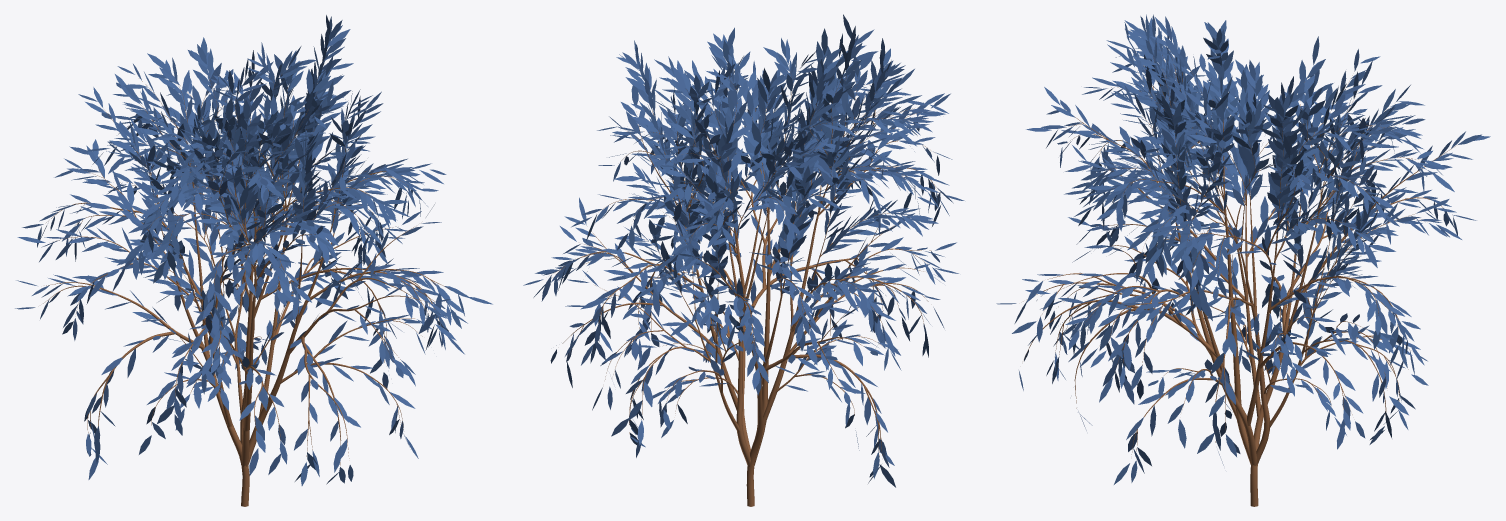
File: tree-winter-complete-misc-0-014.glb
3 views of the same model, side by side, from view 1: azimuth 30°, elevation 25°; view 2: azimuth 150°, elevation 25°; view 3: azimuth 270°, elevation 25° (orthographic). The views are drawn at different scales.
Visible parts, largest first — view 1: leaves.002_181, tree.007_219; view 2: leaves.002_181, tree.007_219; view 3: leaves.002_181, tree.007_219.
Boxes of the visible parts, left/top/right/bottom form: leaves.002_181: left=15, top=15, right=492, bottom=485; tree.007_219: left=43, top=74, right=450, bottom=506; leaves.002_181: left=523, top=14, right=964, bottom=487; tree.007_219: left=553, top=75, right=937, bottom=506; leaves.002_181: left=996, top=14, right=1490, bottom=484; tree.007_219: left=1023, top=43, right=1455, bottom=506.
Size of the model in its own units: 1.58 by 1.9 by 1.82.
